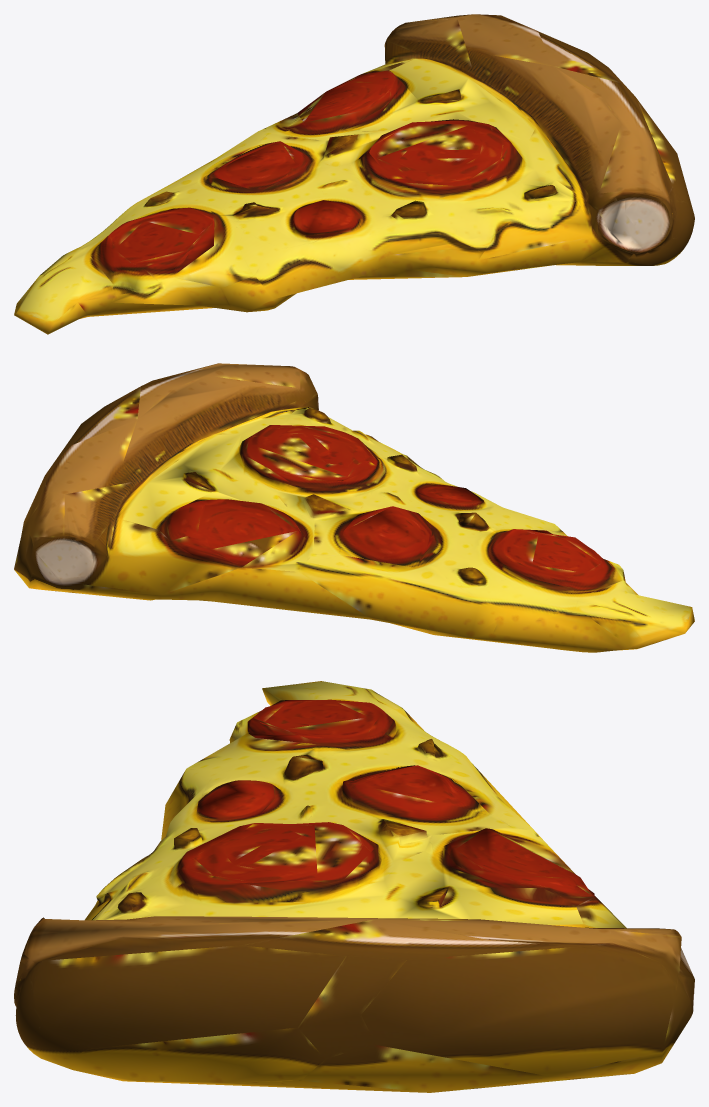
Rendered from pizza.glb.
3 renders of one model, top to bottom at view 1: azimuth 30°, elevation 25°; view 2: azimuth 150°, elevation 25°; view 3: azimuth 270°, elevation 25°, orthographic. The views are drawn at different scales.
Visible parts, largest first — view 1: node_0; view 2: node_0; view 3: node_0.
Part boxes in pixels (x1,y1,x2,y2): node_0: (14, 14, 694, 334); node_0: (14, 363, 694, 652); node_0: (14, 681, 694, 1092).
Size of the model in its own units: 1.11 by 0.2101 by 0.7691.
Materials: 1 (1 with a texture image).
